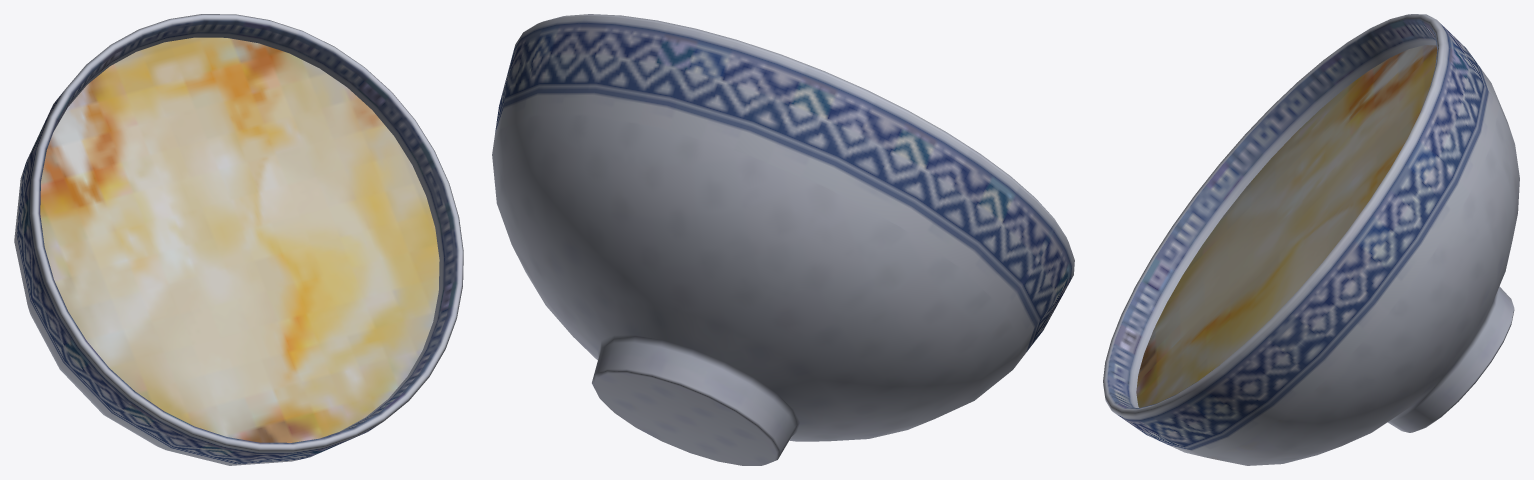
Rendered from BFTofuPudding.glb.
3 views of the same model, side by side, from view 1: azimuth 30°, elevation 25°; view 2: azimuth 150°, elevation 25°; view 3: azimuth 270°, elevation 25° (orthographic). The views are drawn at different scales.
Parts seen in each view (by area): view 1: doufunao; view 2: doufunao; view 3: doufunao.
Boxes of the visible parts, box(x1,y1,x2,y2) form: doufunao: box(14, 14, 463, 465); doufunao: box(492, 14, 1074, 465); doufunao: box(1103, 14, 1519, 465).
Bounding box in the file's own units: 1.64 × 1.4 × 1.34.
Materials: 2 (2 with a texture image).
